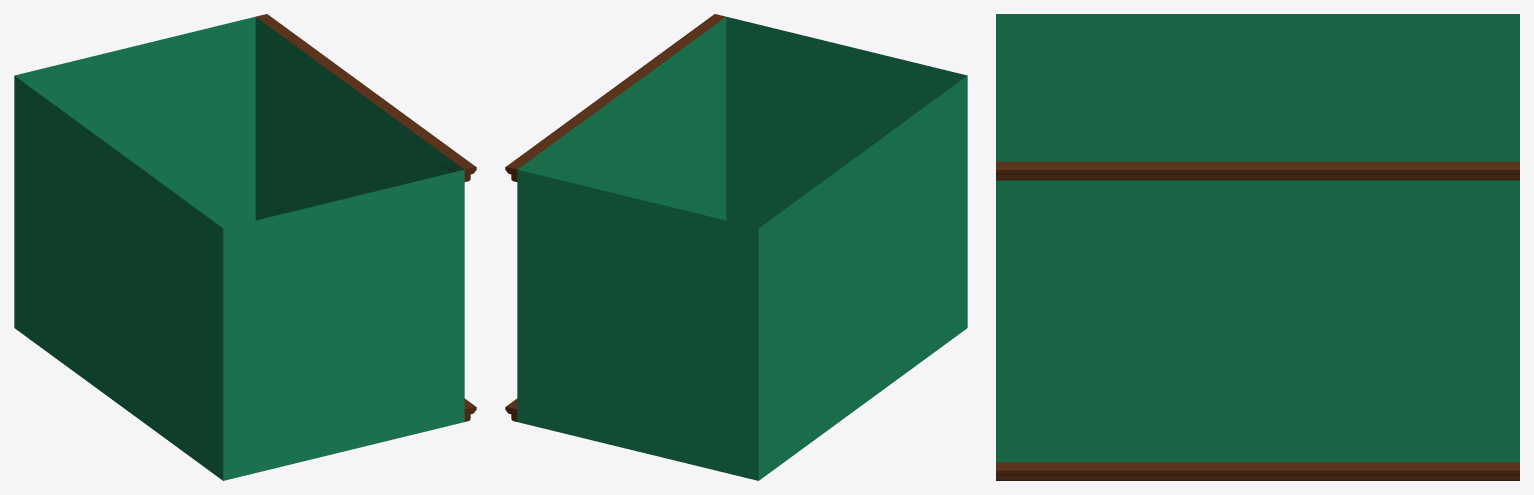
File: Stucco top 6x4x4.fbx
The picture shows the model from 3 angles, left to right: view 1: azimuth 30°, elevation 25°; view 2: azimuth 150°, elevation 25°; view 3: azimuth 270°, elevation 25°; orthographic projection. The views are drawn at different scales.
Visible parts, largest first — view 1: Stucco top 6; view 2: Stucco top 6; view 3: Stucco top 6.
Boxes of the visible parts, box(x1,y1,x2,y2) form: Stucco top 6: box(14, 14, 476, 480); Stucco top 6: box(505, 14, 967, 480); Stucco top 6: box(996, 14, 1519, 480).
Bounding box in the file's own units: 420 × 400 × 600.
